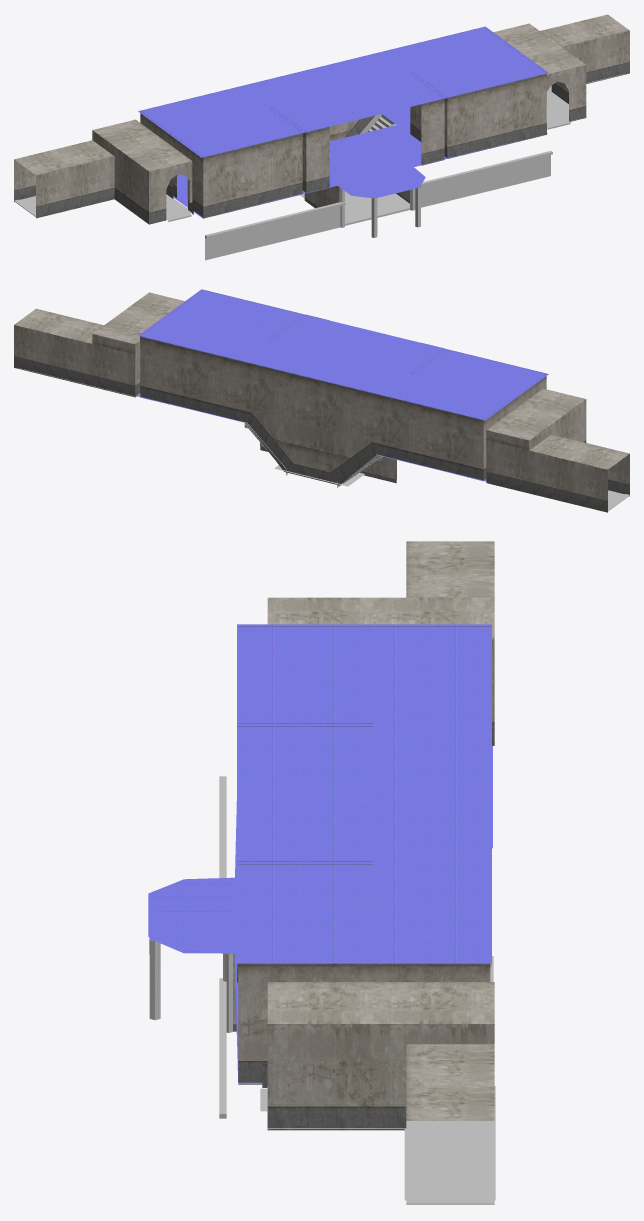
File: dajianzhu.fbx
The picture shows the model from 3 angles, top to bottom: view 1: azimuth 30°, elevation 25°; view 2: azimuth 150°, elevation 25°; view 3: azimuth 270°, elevation 25°; orthographic projection. The views are drawn at different scales.
Visible parts, largest first — view 1: neiqiang1, neiqiang, tianhuaban1, tianhuaban, shuiniqiang1, diban, waiqiang1, shuiniqiang, waiqiang, diban3, diban5, zhuzi (+2 smaller); view 2: neiqiang1, neiqiang, tianhuaban, tianhuaban1, shuiniqiang1, shuiniqiang; view 3: tianhuaban, tianhuaban1, neiqiang, neiqiang1, diban2, shuiniqiang, diban, diban3, zhuzi, waiqiang.
Boxes of the visible parts, bbox=[...] form: neiqiang1: bbox=[14, 114, 339, 212]; neiqiang: bbox=[329, 14, 629, 201]; tianhuaban1: bbox=[138, 69, 396, 198]; tianhuaban: bbox=[312, 26, 548, 192]; shuiniqiang1: bbox=[14, 69, 329, 224]; diban: bbox=[329, 107, 547, 192]; waiqiang1: bbox=[205, 202, 345, 260]; shuiniqiang: bbox=[317, 29, 629, 203]; waiqiang: bbox=[420, 151, 552, 207]; diban3: bbox=[173, 143, 396, 217]; diban5: bbox=[300, 191, 409, 225]; zhuzi: bbox=[339, 186, 420, 237]; neiqiang1: bbox=[312, 376, 629, 500]; neiqiang: bbox=[14, 292, 311, 467]; tianhuaban: bbox=[138, 289, 374, 378]; tianhuaban1: bbox=[312, 331, 548, 420]; shuiniqiang1: bbox=[312, 343, 629, 512]; shuiniqiang: bbox=[14, 291, 328, 478]; tianhuaban: bbox=[149, 794, 491, 963]; tianhuaban1: bbox=[237, 624, 491, 793]; neiqiang: bbox=[233, 953, 494, 1120]; neiqiang1: bbox=[267, 541, 494, 722]; diban2: bbox=[260, 1086, 495, 1204]; shuiniqiang: bbox=[233, 861, 490, 1130]; diban: bbox=[148, 915, 262, 1083]; diban3: bbox=[148, 745, 492, 914]; zhuzi: bbox=[149, 937, 233, 1032]; waiqiang: bbox=[219, 978, 226, 1118].
Bounding box in the file's own units: 78.13 × 13.05 × 19.8.
